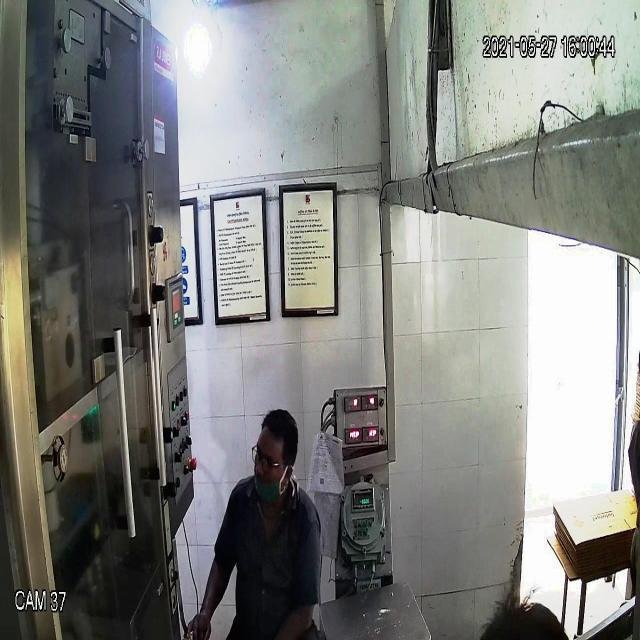glasses: (248, 442, 294, 482)
